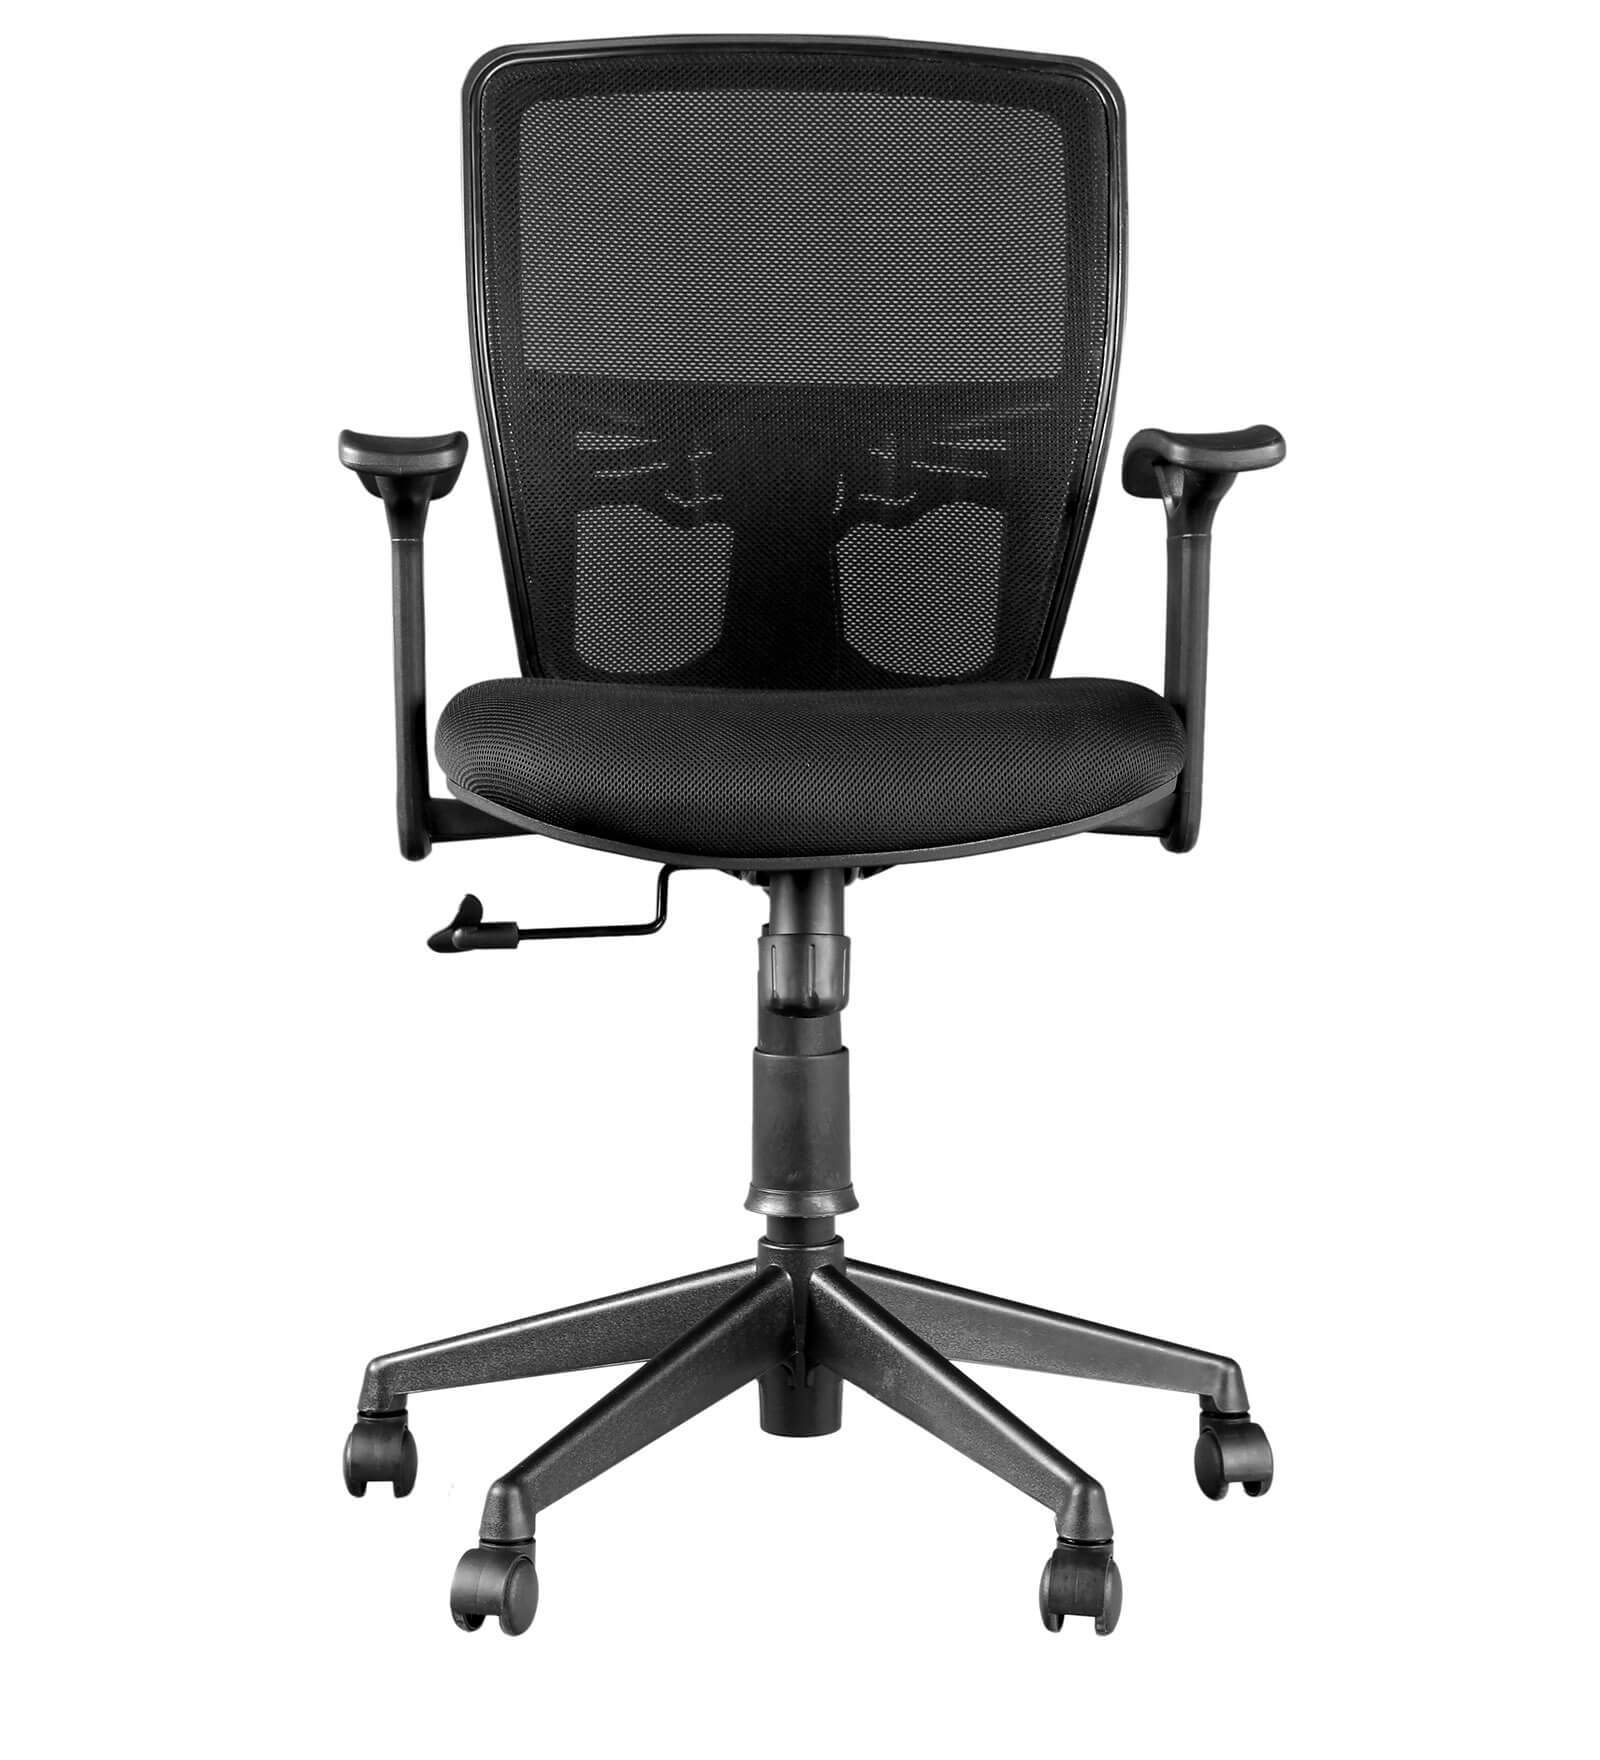Aspire High Back Ergonomic Chair in Black Colour by HomeTown: (322, 28, 1310, 1723)
